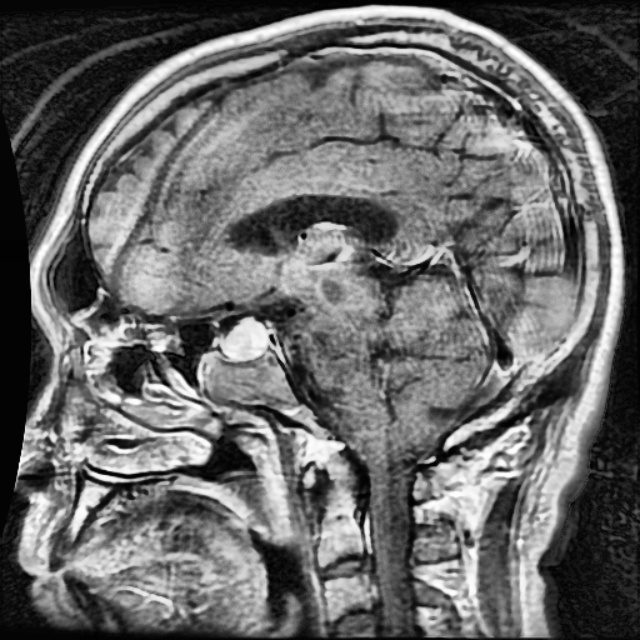Pituitary: (220, 322, 265, 358)
